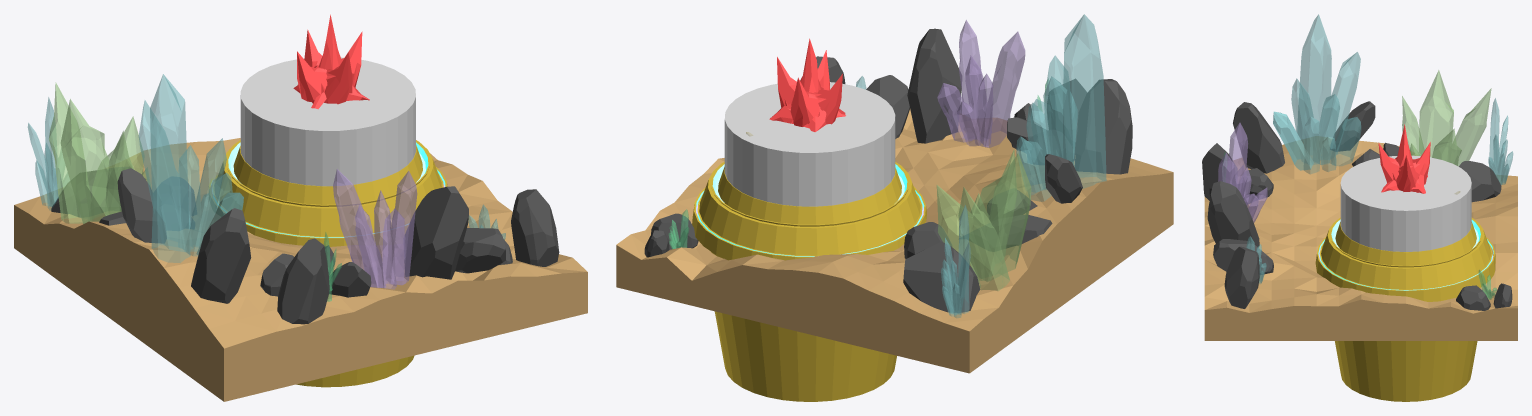
File: LP_Animation_crystal.glb
3 views of the same model, side by side, from view 1: azimuth 30°, elevation 25°; view 2: azimuth 150°, elevation 25°; view 3: azimuth 270°, elevation 25° (orthographic). The views are drawn at different scales.
Visible parts, largest first — view 1: Плоскость.001, Окружность.001, Окружность, Цилиндр, Roundcube.005, Цилиндр.015, Roundcube, Цилиндр.043, Цилиндр.008, Цилиндр.018, Roundcube.011, Roundcube.004 (+20 smaller); view 2: Плоскость.001, Окружность, Окружность.001, Цилиндр, Roundcube.005, Roundcube, Цилиндр.015, Roundcube.003, Цилиндр.043, Цилиндр.018, Цилиндр.001, Цилиндр.008 (+23 smaller); view 3: Плоскость.001, Окружность, Окружность.001, Цилиндр, Roundcube, Roundcube.005, Цилиндр.015, Цилиндр.043, Цилиндр.008, Roundcube.004, Цилиндр.018, Цилиндр.007 (+20 smaller).
Boxes of the visible parts, <box> form: Плоскость.001: <box>14,138,587,401</box>; Окружность.001: <box>240,57,415,186</box>; Окружность: <box>209,140,447,387</box>; Цилиндр: <box>150,74,190,262</box>; Roundcube.005: <box>404,186,468,279</box>; Цилиндр.015: <box>60,99,120,223</box>; Roundcube: <box>191,208,251,303</box>; Цилиндр.043: <box>293,14,369,109</box>; Цилиндр.008: <box>138,100,193,251</box>; Цилиндр.018: <box>49,82,91,223</box>; Roundcube.011: <box>277,238,329,324</box>; Roundcube.004: <box>511,189,559,266</box>; Плоскость.001: <box>616,109,1173,373</box>; Окружность: <box>692,162,926,401</box>; Окружность.001: <box>724,82,895,206</box>; Цилиндр: <box>1063,14,1106,188</box>; Roundcube.005: <box>907,28,961,143</box>; Roundcube: <box>1075,79,1132,174</box>; Цилиндр.015: <box>970,153,1031,281</box>; Roundcube.003: <box>903,241,980,312</box>; Цилиндр.043: <box>769,38,845,131</box>; Цилиндр.018: <box>958,187,1009,290</box>; Цилиндр.001: <box>980,31,1025,147</box>; Цилиндр.008: <box>1043,76,1073,165</box>; Плоскость.001: <box>1204,136,1517,340</box>; Окружность: <box>1315,217,1495,401</box>; Окружность.001: <box>1340,155,1471,251</box>; Цилиндр: <box>1297,14,1331,142</box>; Roundcube: <box>1233,102,1284,173</box>; Roundcube.005: <box>1207,181,1259,247</box>; Цилиндр.015: <box>1419,70,1453,161</box>; Цилиндр.043: <box>1378,124,1430,193</box>; Цилиндр.008: <box>1320,52,1360,157</box>; Roundcube.004: <box>1224,246,1259,308</box>; Цилиндр.018: <box>1451,88,1491,166</box>; Цилиндр.007: <box>1291,78,1320,164</box>.
Size of what is drawn, in the model's own units: 6.11 by 5.9 by 6.05.
